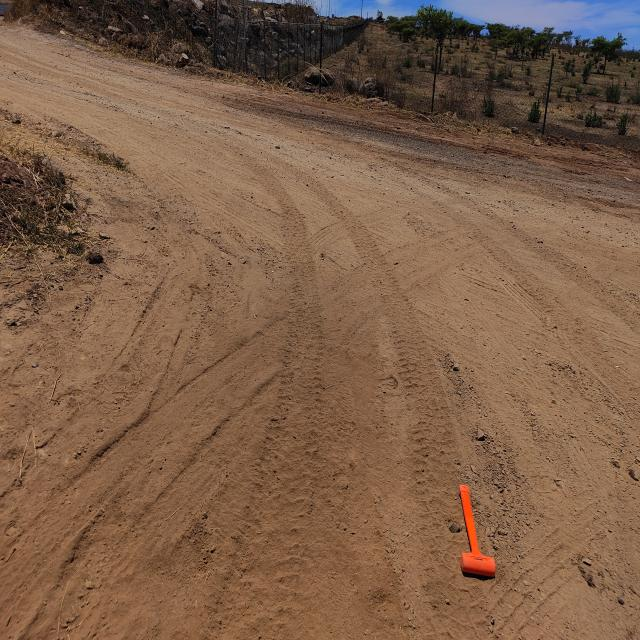Orange_hammer: (458, 484, 496, 578)
